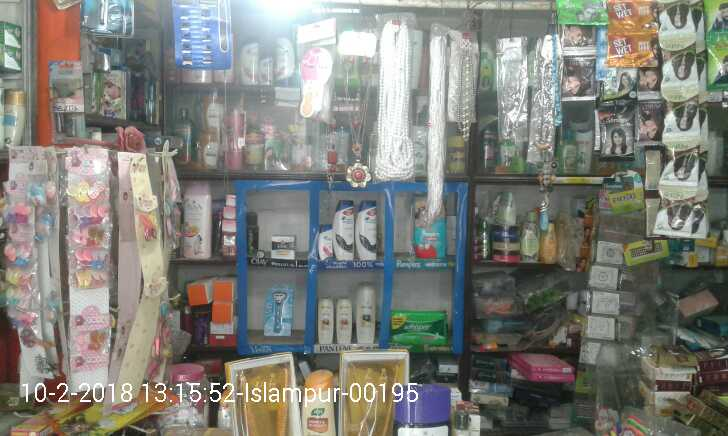venus: (263, 287, 291, 336)
